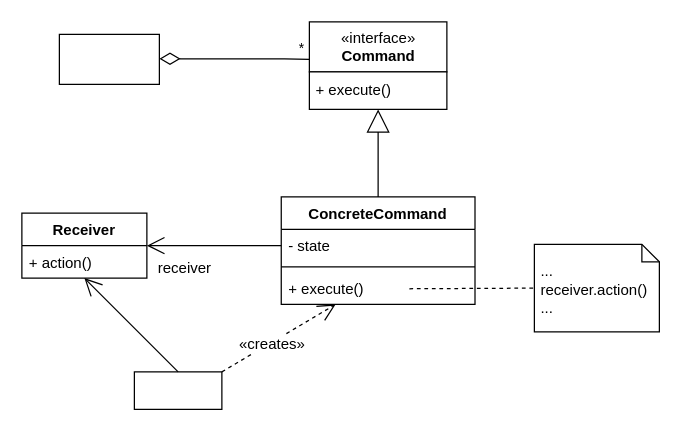
The diagram is 681 pixels wide and 431 high, and some of its shapes have lost their labels. The centre of each missing label's shape, as x and y in pixels:
Client: the point at 177,390
Invoker: the point at 108,58
